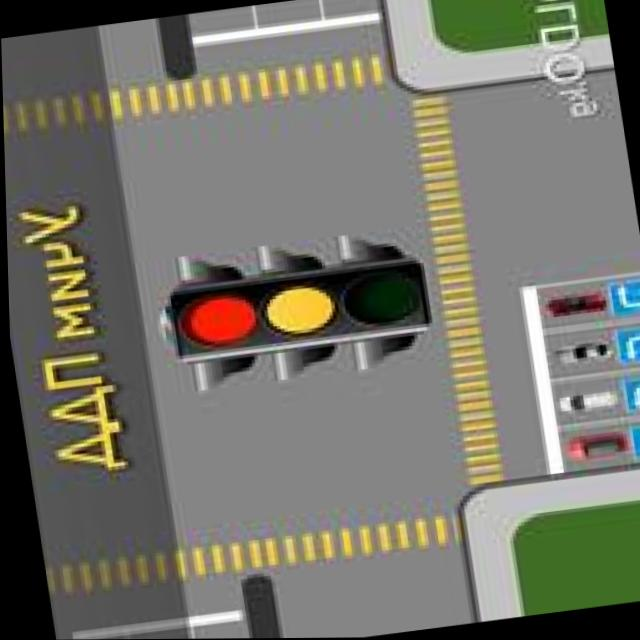red_light: (158, 268, 279, 371)
yellow_light: (250, 253, 351, 354)
